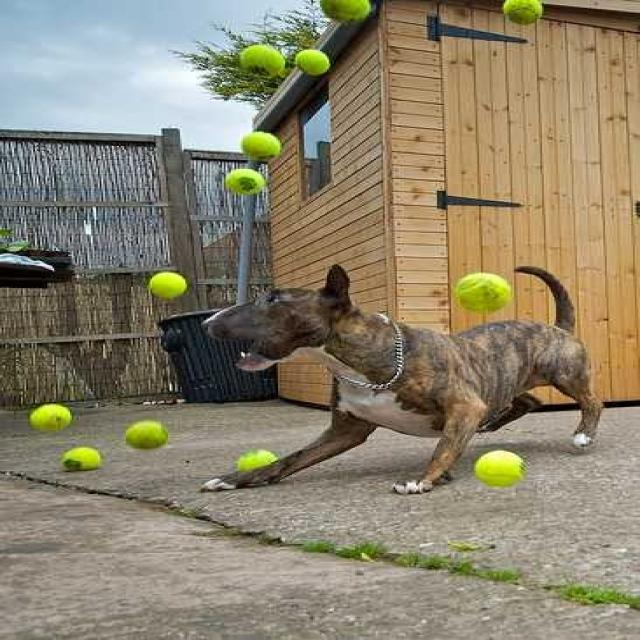Tennis_Ball: (464, 264, 509, 322), (481, 448, 522, 488), (238, 46, 291, 72), (33, 408, 70, 438), (125, 421, 166, 448), (319, 0, 380, 18), (242, 134, 280, 160), (64, 450, 110, 470), (300, 48, 330, 78), (503, 3, 544, 24), (153, 272, 181, 299), (223, 171, 264, 189), (240, 450, 271, 467)
